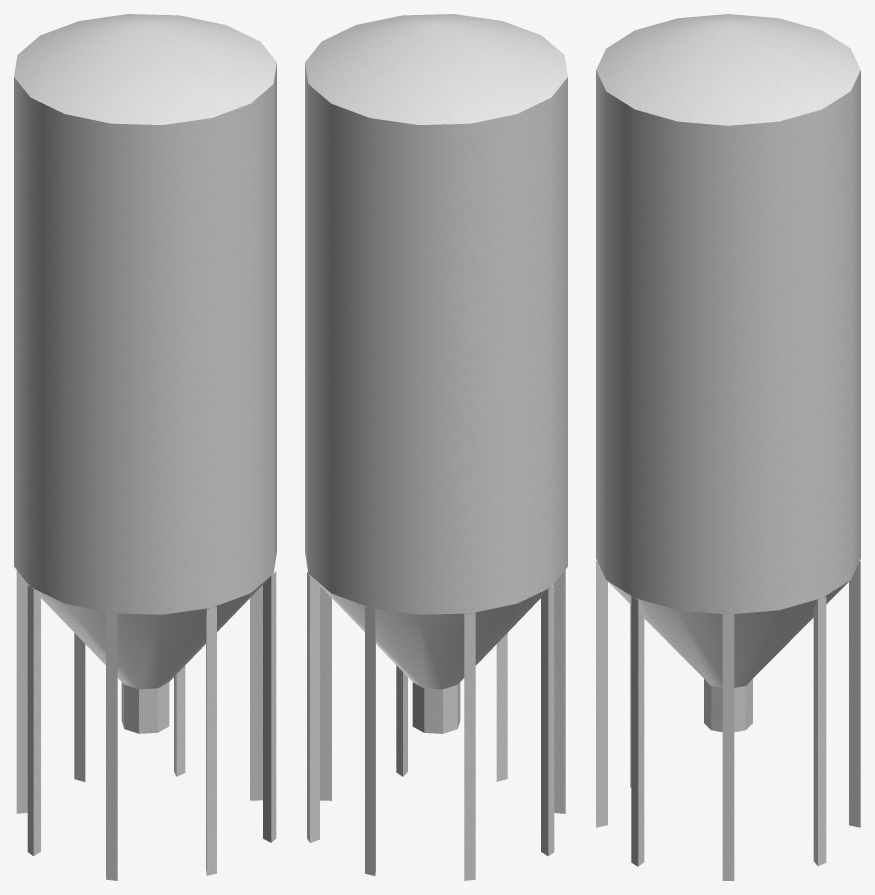
Rendered from grain-silo-hopper-6x16cbj_LOD01.gltf.
The picture shows the model from 3 angles, left to right: view 1: azimuth 30°, elevation 25°; view 2: azimuth 150°, elevation 25°; view 3: azimuth 270°, elevation 25°; orthographic projection.
Parts seen in each view (by area): view 1: grain-silo01; view 2: grain-silo01; view 3: grain-silo01.
Part boxes in pixels (box(x1,y1,x2,y2)): grain-silo01: box(14, 14, 276, 880); grain-silo01: box(305, 14, 567, 880); grain-silo01: box(596, 14, 860, 880).
Bounding box in the file's own units: 5.4 × 18 × 5.4.
